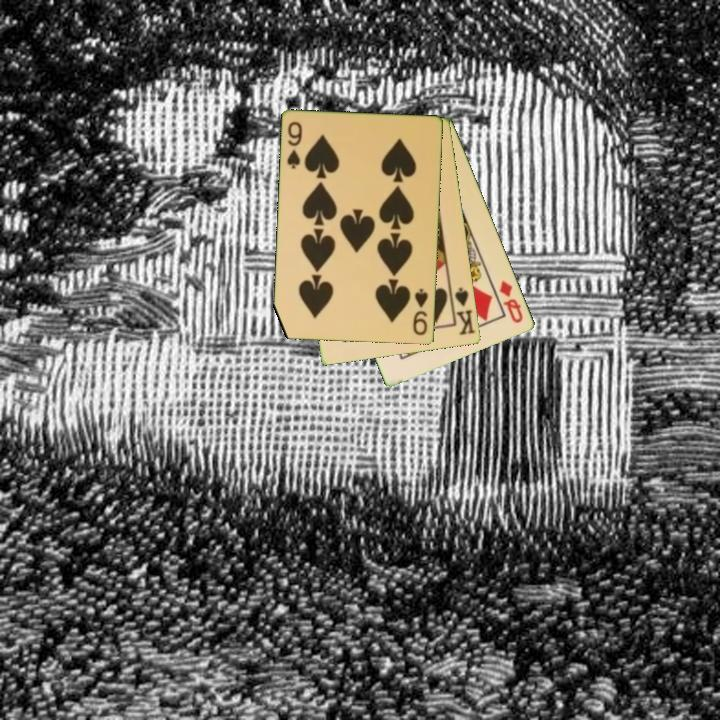9s: (409, 285, 431, 338), (284, 118, 305, 172)
Ks: (452, 284, 478, 338)
Qd: (496, 277, 526, 326)
